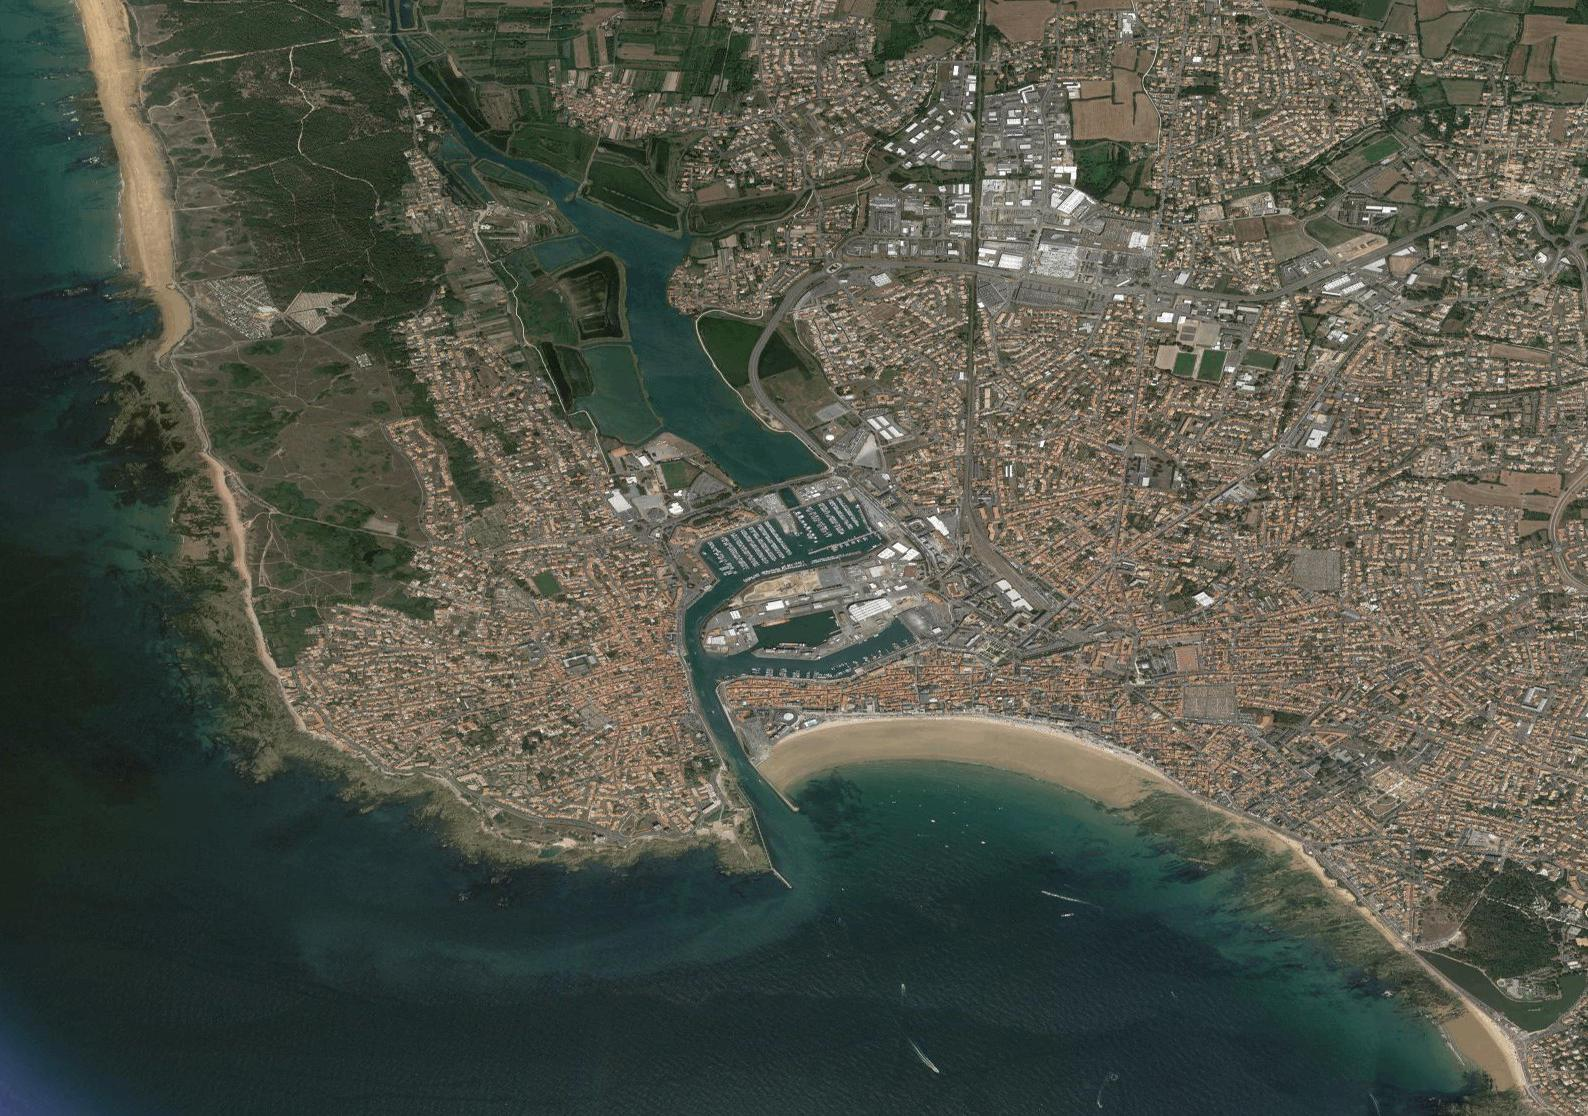harbor: (696, 483, 888, 676)
industrial: (985, 184, 1084, 284)
motorway: (744, 361, 792, 423), (748, 300, 793, 360), (789, 423, 836, 469)
